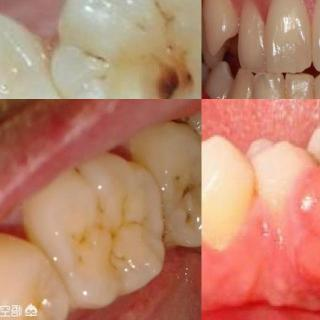Gum Swelling: (269, 169, 320, 311)
cavities: (152, 110, 202, 242), (127, 27, 196, 99)
maligned: (204, 0, 242, 52), (250, 72, 285, 99), (228, 69, 252, 99)
